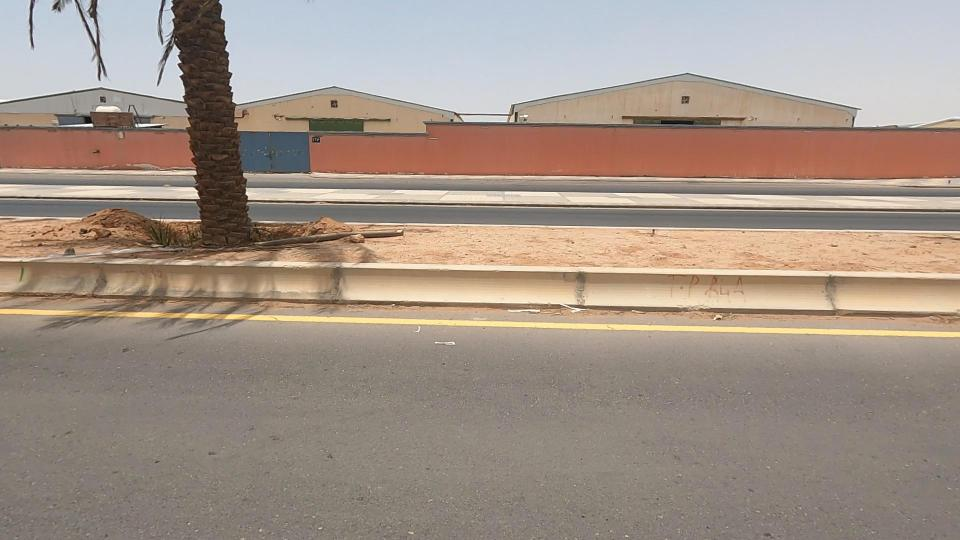CLUTTER_SIDEWALK: (218, 170, 897, 330)
GARBAGE: (422, 272, 638, 341)
